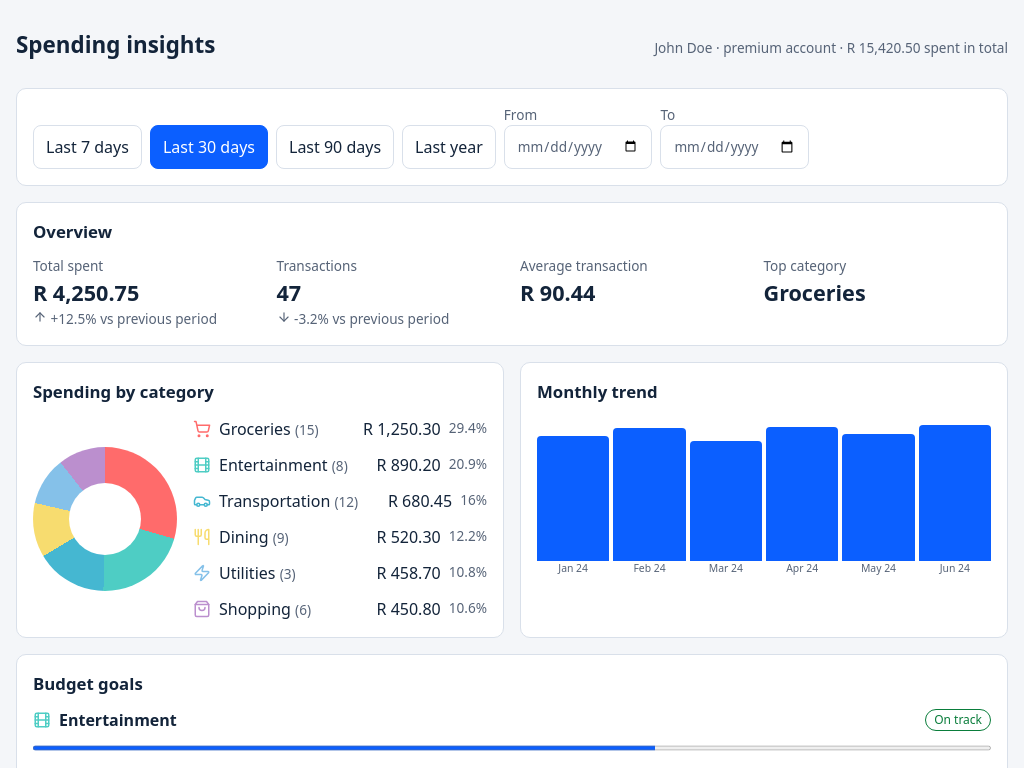
Test: Dashboard › refuses an end date before the start date
Expected: the text "John Doe · premium account · R 15,420.50 spent in total" is shown, 654,38 -> 1008,58
Type "2024-09-10" into the date field labelled "From".
click(578, 147); type("2024-09-10")  # box 504,125 -> 652,169
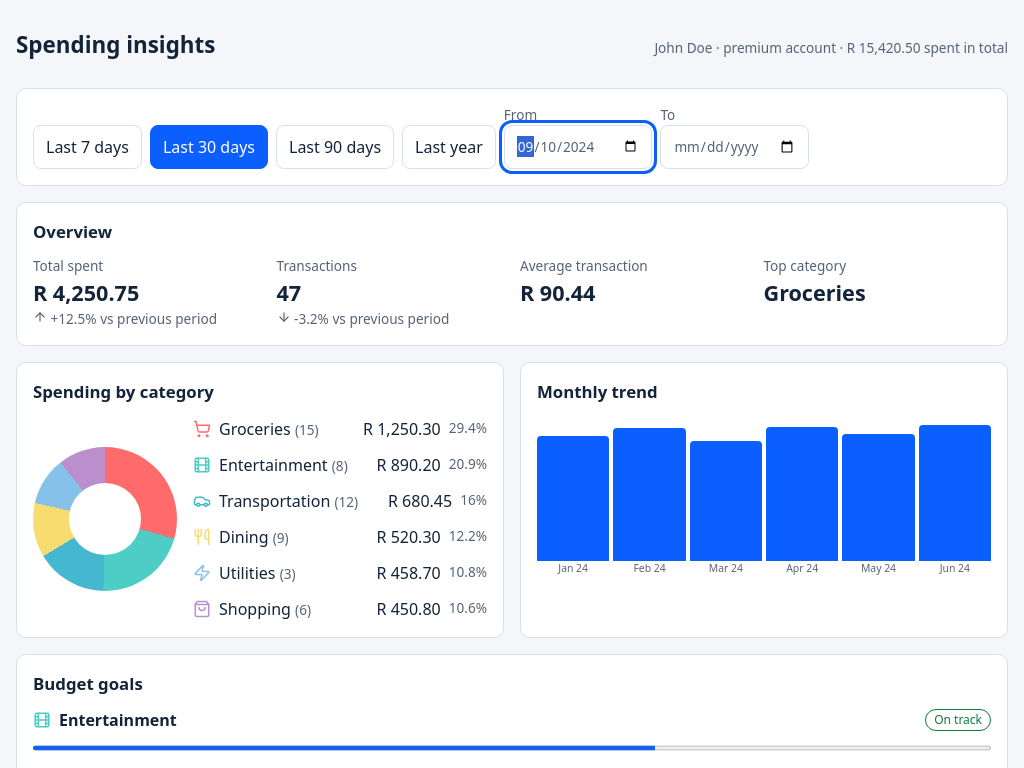
Type "2024-09-01" into the date field labelled "To".
click(735, 147); type("2024-09-01")  # box 660,125 -> 809,169
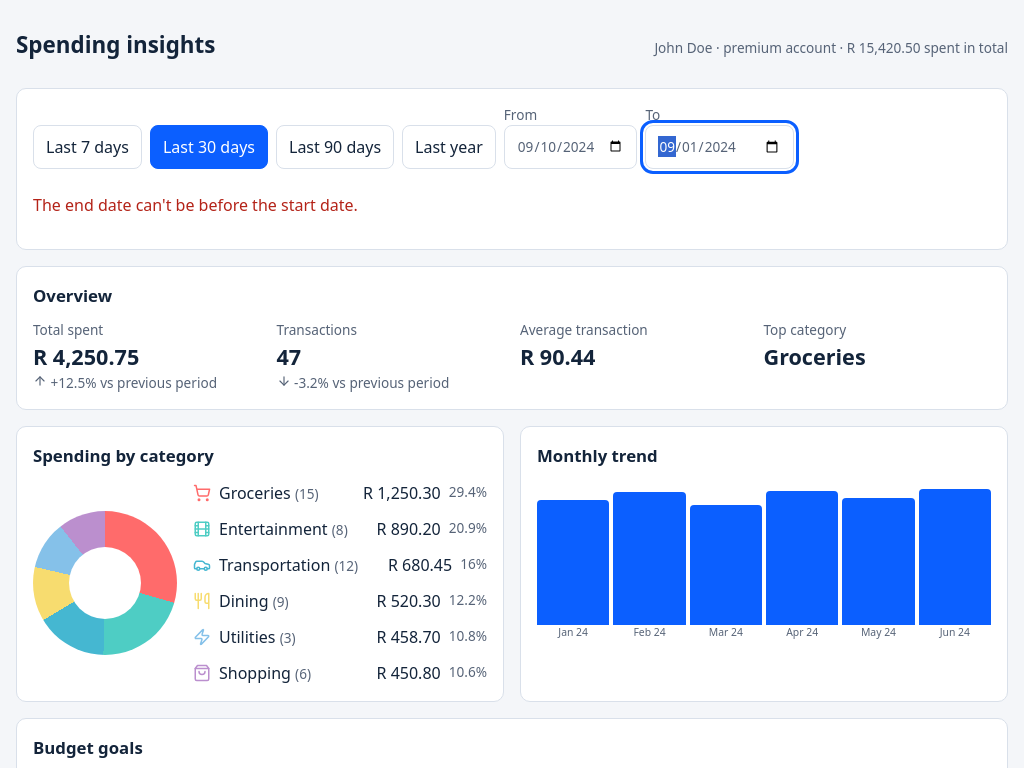
Expected: the message shows "end date", 33,194 -> 358,216
